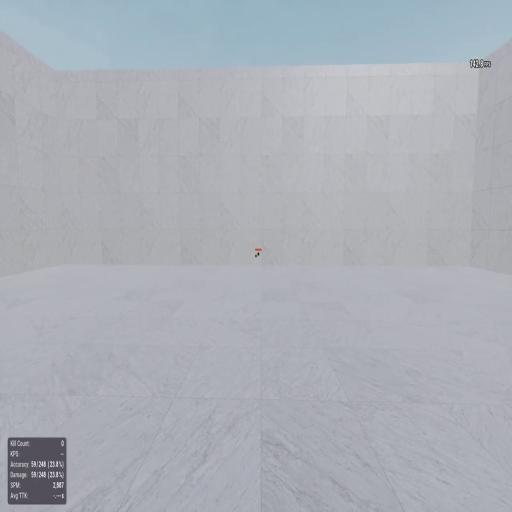Crosshair: (255, 254, 257, 258)
Target: (258, 252, 260, 256)
